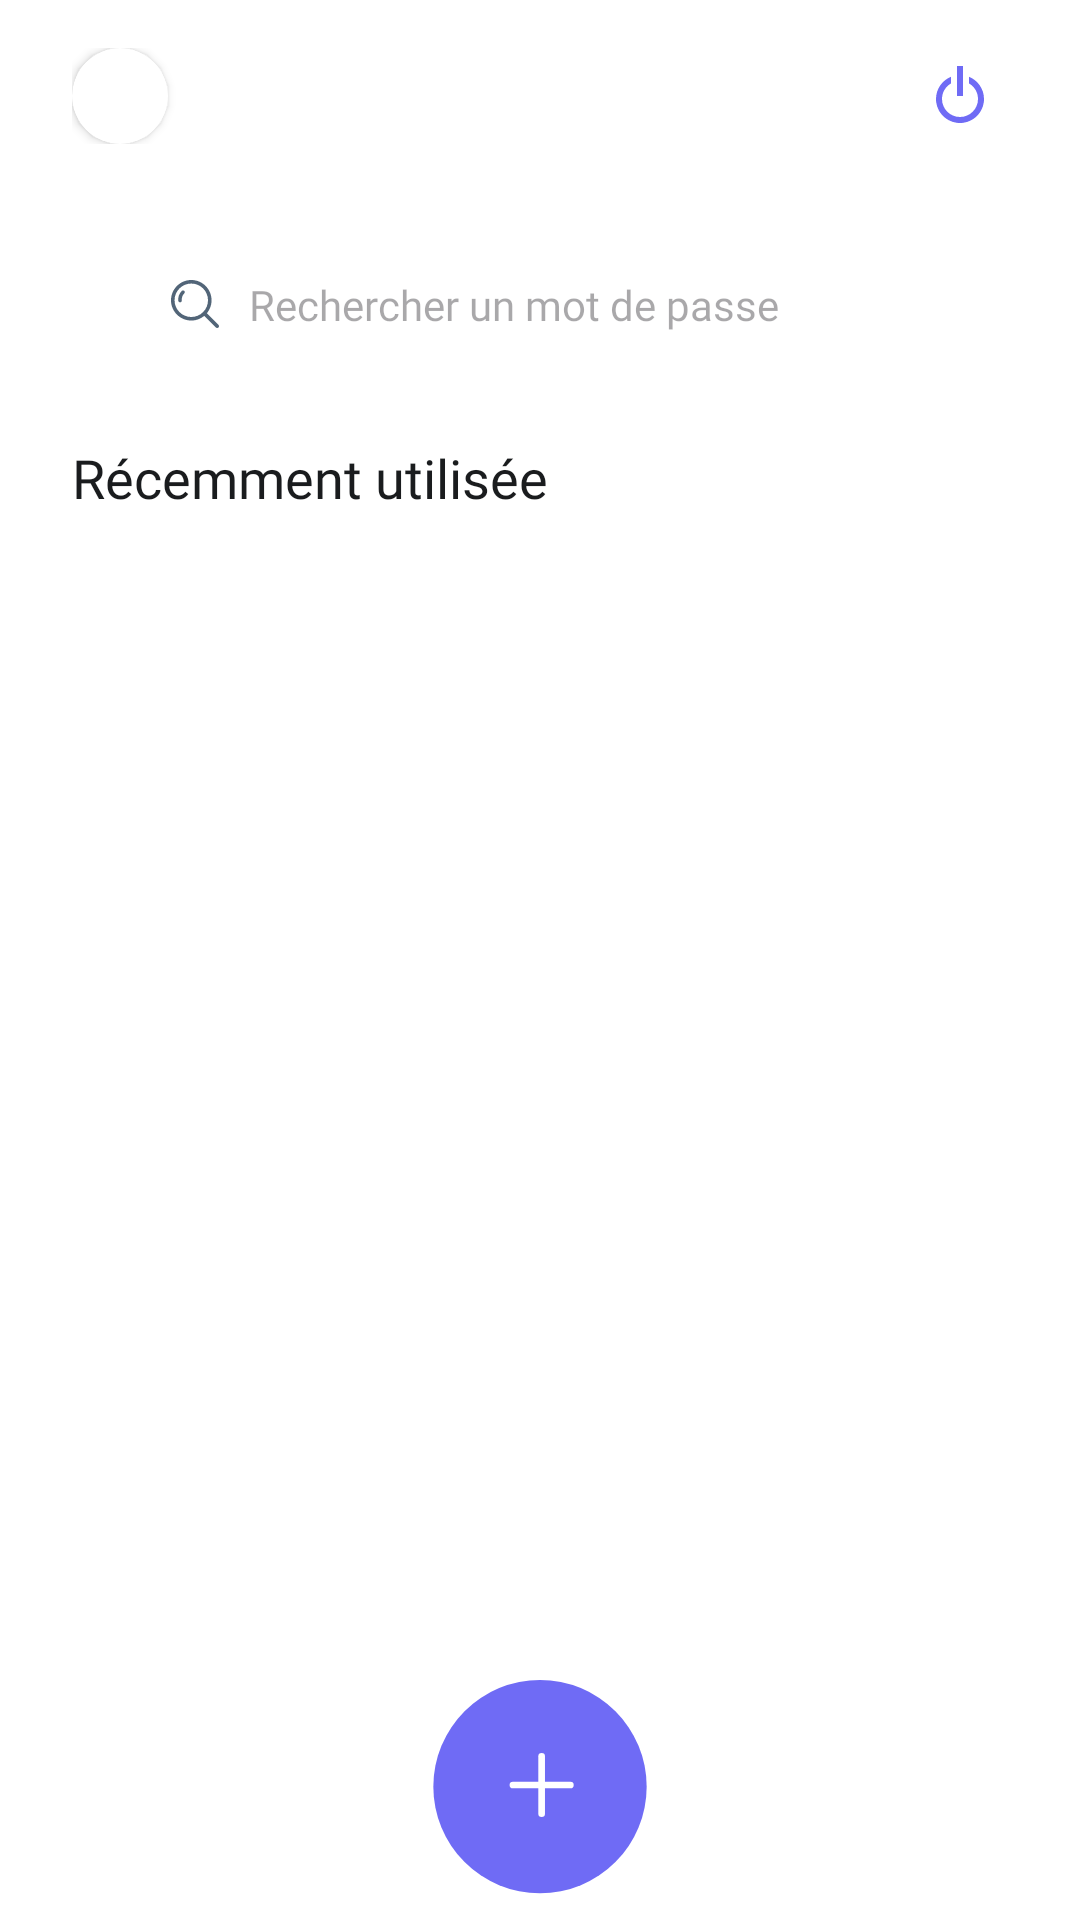

Icon bounding boxes for this 1080 × 1920 phone screenshot, format {"x1": x1, "y1": y1, "x2": x2, "y2": y2}:
add: {"x1": 433, "y1": 1680, "x2": 647, "y2": 1894}
power off: {"x1": 936, "y1": 66, "x2": 984, "y2": 123}
